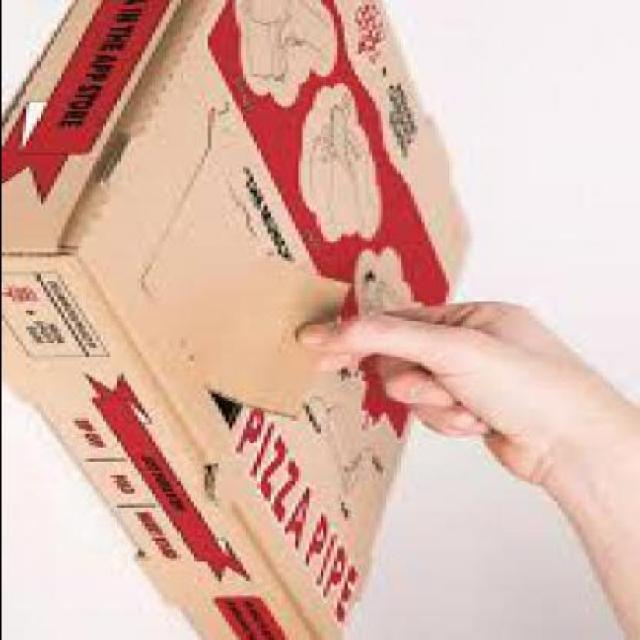CARDBOARD: (3, 0, 480, 638), (144, 153, 356, 415)
